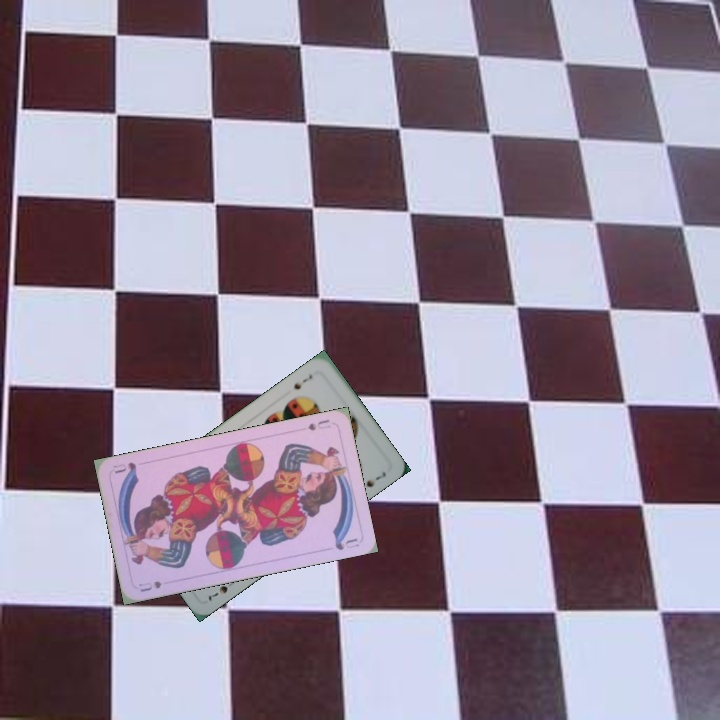S7: (204, 576, 239, 604), (289, 370, 315, 392)
SU: (135, 577, 164, 595), (304, 415, 333, 433)
